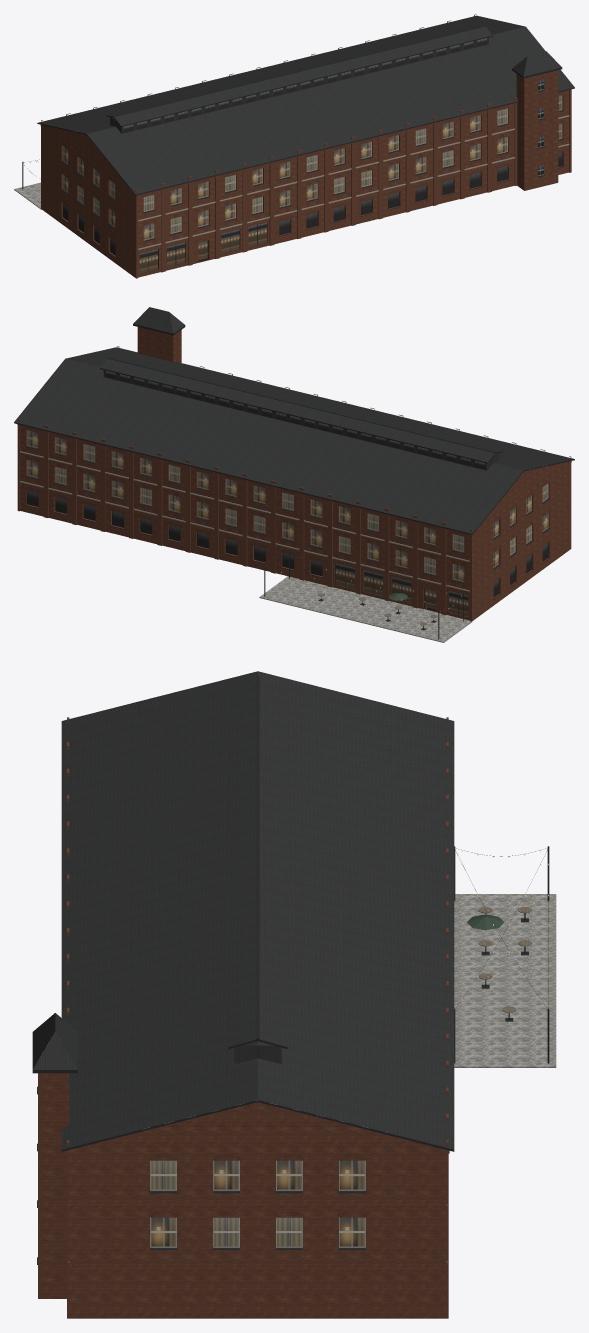
File: town_mill 2.gltf
The picture shows the model from 3 angles, top to bottom: view 1: azimuth 30°, elevation 25°; view 2: azimuth 150°, elevation 25°; view 3: azimuth 270°, elevation 25°; orthographic projection. The views are drawn at different scales.
Visible parts, largest first — view 1: TownMill_Roof, TownMill_Walls, TownMill_Window, TownMill_Pilasters, TownMill_Tower, TownMill_Arches, TownMill_Reveals, TownMill_Fascia, TownMill_Bands, TownMill_Monitor, TownMill_Trim, TownMill_Ridge (+2 smaller); view 2: TownMill_Roof, TownMill_Walls, TownMill_Window, TownMill_Pilasters, TownMill_Patio, TownMill_Arches, TownMill_Reveals, TownMill_Fascia, TownMill_Bands, TownMill_Monitor, TownMill_Tower, TownMill_Trim (+2 smaller); view 3: TownMill_Roof, TownMill_Walls, TownMill_Patio, TownMill_Window, TownMill_Tower, TownMill_Pilasters, TownMill_Ridge, TownMill_Fascia, TownMill_Arches, TownMill_Trim.
Boxes of the visible parts, <box> form: TownMill_Roof: <box>38,15,574,194</box>; TownMill_Walls: <box>41,90,568,277</box>; TownMill_Window: <box>63,38,562,273</box>; TownMill_Pilasters: <box>41,14,571,278</box>; TownMill_Tower: <box>516,70,558,190</box>; TownMill_Arches: <box>61,92,564,240</box>; TownMill_Reveals: <box>61,95,563,274</box>; TownMill_Fascia: <box>37,35,574,195</box>; TownMill_Bands: <box>135,115,569,249</box>; TownMill_Monitor: <box>110,37,488,133</box>; TownMill_Trim: <box>61,89,563,257</box>; TownMill_Ridge: <box>113,25,485,116</box>; TownMill_Roof: <box>14,307,574,533</box>; TownMill_Walls: <box>20,425,570,620</box>; TownMill_Window: <box>26,370,548,616</box>; TownMill_Pilasters: <box>17,346,571,621</box>; TownMill_Patio: <box>259,576,472,642</box>; TownMill_Arches: <box>25,427,550,582</box>; TownMill_Reveals: <box>26,430,549,616</box>; TownMill_Fascia: <box>14,324,574,534</box>; TownMill_Bands: <box>20,451,469,591</box>; TownMill_Monitor: <box>103,370,499,470</box>; TownMill_Tower: <box>137,327,181,362</box>; TownMill_Trim: <box>25,445,550,599</box>; TownMill_Roof: <box>32,671,454,1149</box>; TownMill_Walls: <box>69,1102,446,1318</box>; TownMill_Patio: <box>454,894,556,1067</box>; TownMill_Window: <box>150,1160,365,1247</box>; TownMill_Tower: <box>38,1073,69,1298</box>; TownMill_Pilasters: <box>67,717,448,1318</box>; TownMill_Ridge: <box>256,676,259,1039</box>; TownMill_Fascia: <box>32,1039,454,1151</box>; TownMill_Arches: <box>148,1154,367,1217</box>; TownMill_Trim: <box>37,1086,365,1264</box>.
Size of what is drawn, in the model's own units: 64.6 by 18.38 by 33.35.
Materials: 2 (2 with a texture image).
